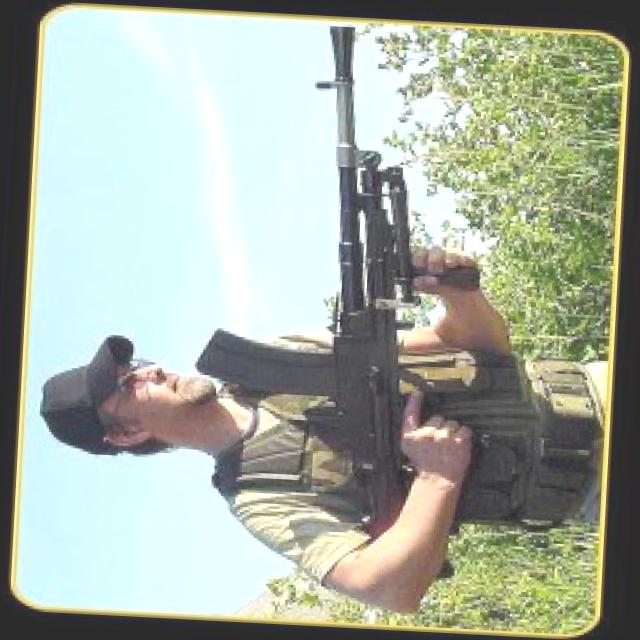long weapon: (185, 23, 488, 626)
